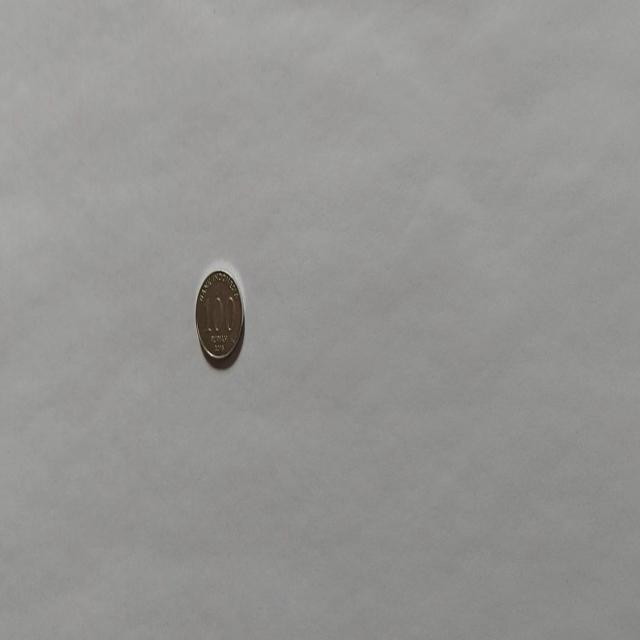seratus rupiah: (194, 268, 244, 364)
